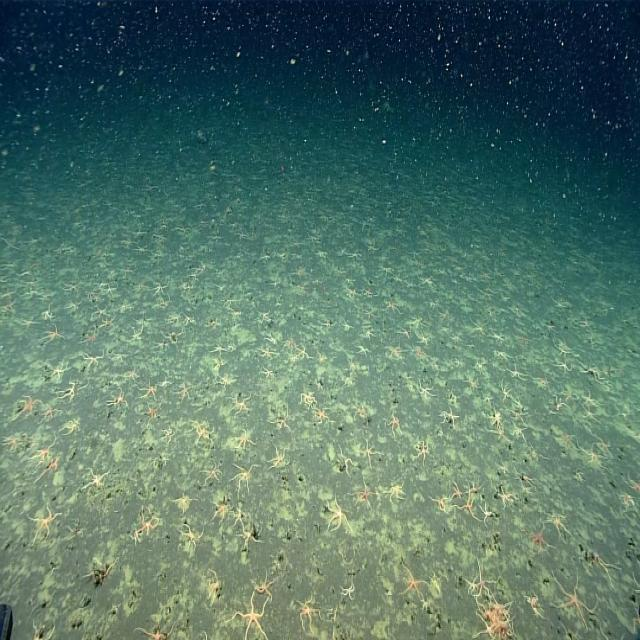brittle-stars: (546, 566, 600, 630), (235, 589, 270, 638), (28, 506, 64, 546), (82, 554, 123, 587), (589, 546, 621, 587), (289, 596, 322, 635), (454, 485, 481, 529), (396, 561, 425, 601), (137, 614, 181, 640), (323, 498, 352, 535), (522, 525, 554, 557), (470, 557, 492, 600), (228, 464, 255, 498), (80, 467, 111, 496), (552, 333, 583, 361), (348, 481, 378, 509), (234, 522, 266, 548), (579, 438, 604, 471), (521, 588, 544, 622), (171, 490, 197, 520), (135, 507, 160, 537), (251, 573, 276, 603), (334, 444, 355, 479), (358, 436, 379, 470), (383, 477, 408, 505), (229, 429, 257, 453), (203, 566, 221, 603), (549, 512, 571, 542), (208, 496, 233, 522), (582, 359, 606, 386), (502, 359, 528, 383), (31, 439, 58, 462), (180, 524, 202, 552), (266, 447, 290, 471), (472, 612, 492, 640), (426, 490, 450, 513), (226, 395, 254, 414), (135, 380, 160, 401), (494, 486, 519, 507), (202, 458, 220, 487), (309, 405, 335, 425), (78, 350, 106, 368), (42, 324, 63, 348), (31, 620, 56, 640), (104, 391, 130, 410), (439, 405, 458, 431), (414, 379, 436, 401), (479, 502, 501, 524), (386, 410, 403, 438), (619, 486, 636, 514), (11, 397, 39, 413), (270, 413, 291, 434), (142, 404, 162, 426), (39, 402, 59, 424), (339, 580, 357, 604), (551, 391, 567, 418), (414, 442, 430, 468), (520, 469, 538, 492), (300, 388, 317, 412), (555, 356, 572, 380), (600, 625, 627, 640), (194, 425, 213, 446), (172, 383, 194, 401), (622, 470, 640, 492), (628, 603, 640, 635), (511, 424, 530, 444), (45, 364, 70, 379), (406, 313, 428, 330), (580, 390, 602, 407), (489, 426, 512, 442), (560, 428, 574, 454), (57, 384, 77, 402), (257, 345, 279, 361), (488, 326, 507, 344), (80, 330, 99, 348), (216, 372, 236, 389), (187, 422, 208, 438), (488, 409, 503, 431), (63, 418, 79, 438), (386, 342, 402, 362), (161, 420, 174, 444), (498, 379, 512, 401), (470, 318, 486, 337), (462, 574, 477, 594), (150, 282, 170, 297), (362, 303, 377, 323), (508, 410, 531, 423), (5, 433, 22, 450), (350, 405, 367, 422), (120, 367, 139, 381), (386, 298, 400, 316), (294, 344, 308, 362), (630, 570, 640, 595), (451, 480, 464, 499), (411, 345, 427, 360), (127, 327, 143, 342), (536, 372, 550, 389), (466, 375, 479, 393), (96, 318, 117, 329), (493, 461, 509, 475), (481, 389, 494, 406), (182, 309, 194, 326), (211, 343, 226, 356), (259, 368, 275, 380), (342, 318, 352, 336)
